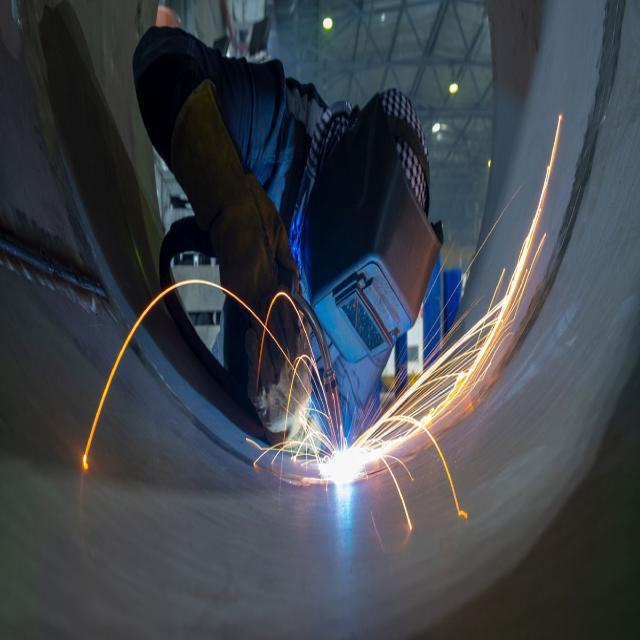with_helmet: (302, 93, 441, 366)
